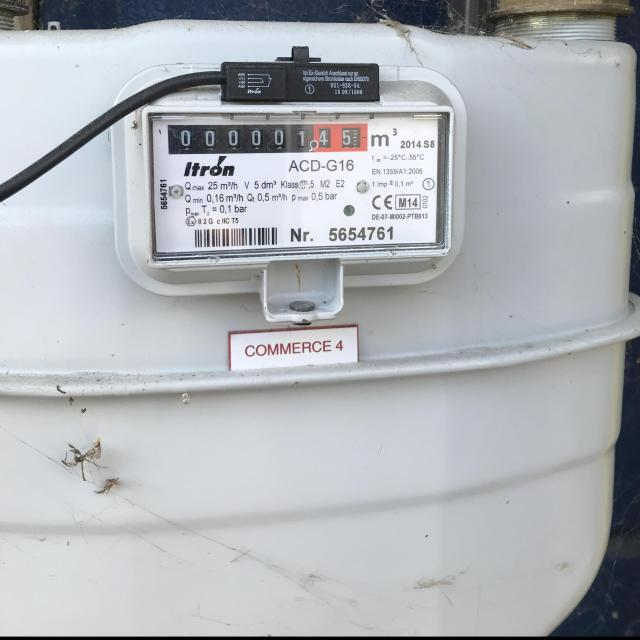gaz_meter: (147, 114, 447, 261)
indication: (166, 122, 368, 157)
